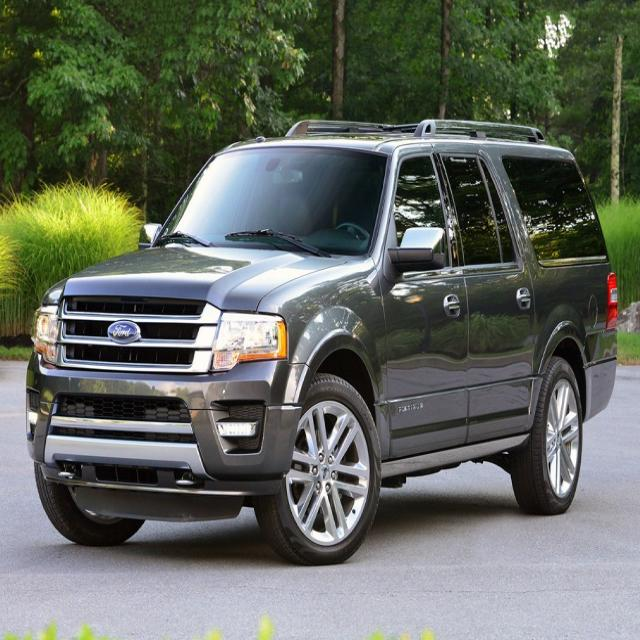back_left_side_light: (603, 268, 622, 335)
door: (438, 145, 537, 443)
front_bumper: (23, 355, 302, 506)
front_glass: (156, 142, 386, 260)
front_left_side_door: (372, 144, 474, 473)
front_left_side_light: (206, 308, 290, 378)
front_left_side_mirror: (392, 223, 449, 274)
front_right_side_light: (29, 299, 62, 370)
rear_bumper: (579, 326, 623, 418)
wheel: (264, 376, 380, 560), (514, 359, 583, 512)
